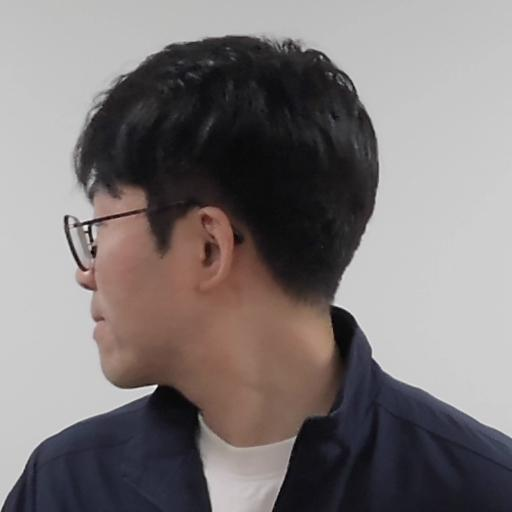no_glasses: (48, 31, 384, 397)
